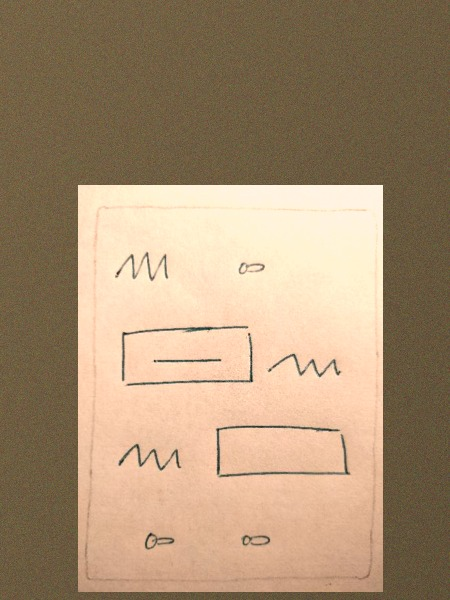button: (114, 318, 266, 393)
switch: (225, 523, 289, 554), (134, 523, 183, 555), (230, 252, 275, 284)
text: (109, 432, 185, 479), (262, 346, 350, 383), (108, 245, 180, 288)
text_input: (208, 416, 359, 485)
